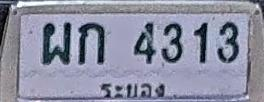1: (194, 22, 208, 63)
3: (217, 21, 239, 63), (162, 22, 182, 63)
4: (134, 22, 156, 64)
A01: (78, 22, 105, 64)
A28: (42, 22, 72, 64)
RYG: (96, 76, 168, 101)
